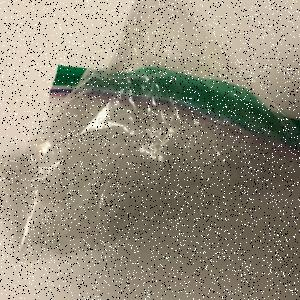Trash: (2, 2, 300, 267)
